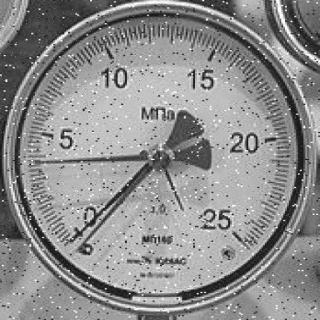gauge: (0, 0, 320, 320), (56, 222, 91, 262), (144, 142, 176, 174), (218, 218, 250, 250), (72, 238, 92, 255), (30, 155, 46, 170), (63, 233, 78, 247)
